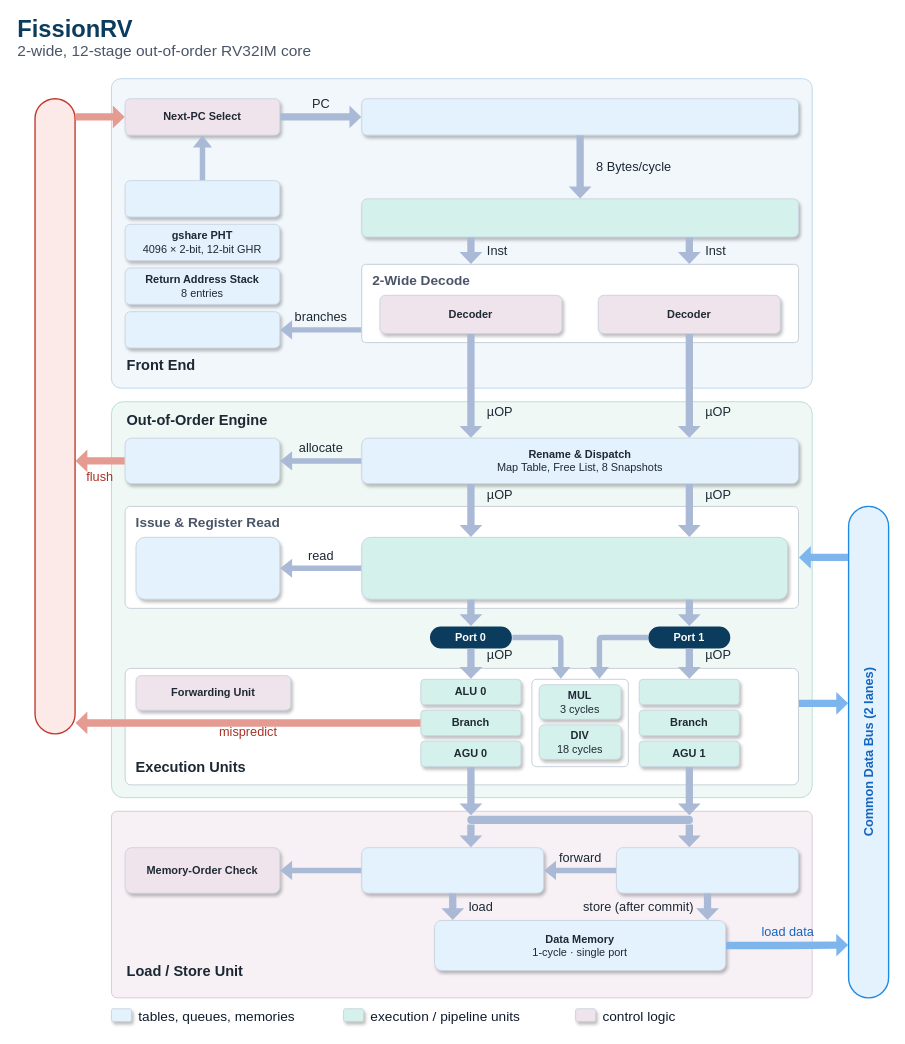
Image size: 905x1044. Some labels were removed from this diagram. Here are the shapes that lost their labels. From the top down, the centre of each, then its label:
At [580,118]: "Instruction Memory 1-cycle read".
At [203,199]: "BTB 256 entries, 2-way".
At [580,218]: "Instruction Fetch & PreDecode 2-instruction bundle · finds jal, call, ret".
At [203,330]: "Branch Info Queue 32 entries".
At [54,416]: "Redirect / Flush".
At [203,462]: "Reorder Buffer 64 entries".
At [208,569]: "Physical Register File 64 registers".
At [575,569]: "Unified Issue Queue 32 entries".
At [690,693]: "ALU 1".
At [453,871]: "Load Queue 16 entries".
At [708,871]: "Store Queue & Forwarding 32 entries".
